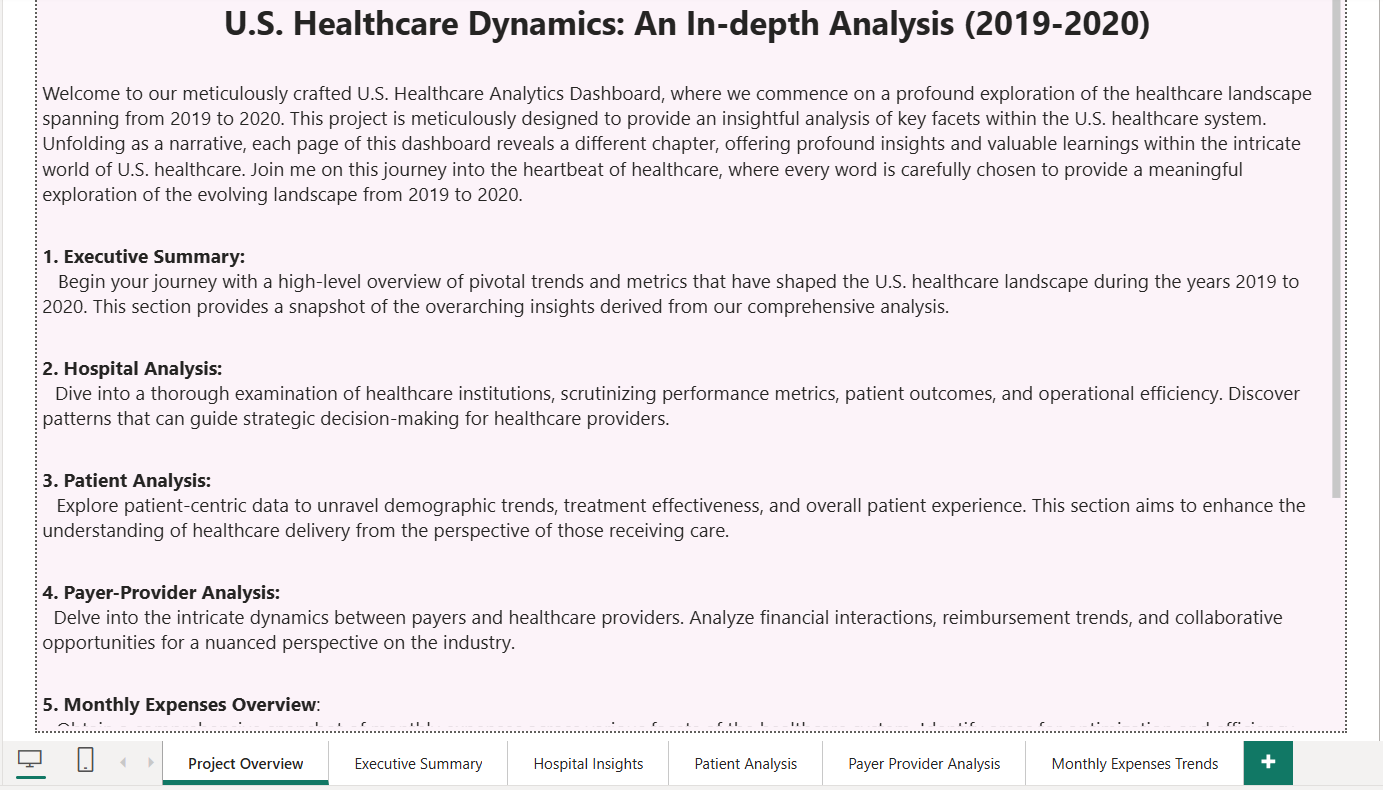

This screenshot's page, from the dashboard's own definition file:
{"tool":"powerbi","page":{"name":"Project Overview","canvas":[1280,720],"ordinal":0},"visuals":[{"type":"textbox","box":[0,0,1280.5,720.4],"z":0}]}

Visuals, with their boxes on the page's 1280x720 design canvas (x1, y1, x2, y2). These are canvas units, not pixel positions in the 1383x790 screenshot, which may show the page scaled, cropped or inside an application window:
textbox: region(0, 0, 1280, 720)
